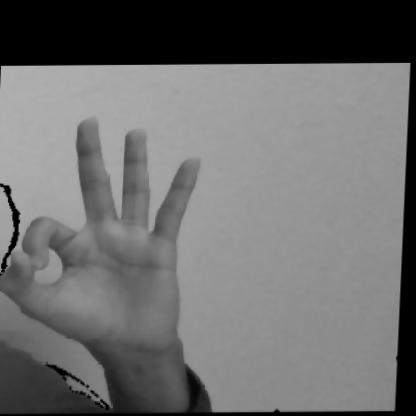ok: (0, 106, 228, 414)
